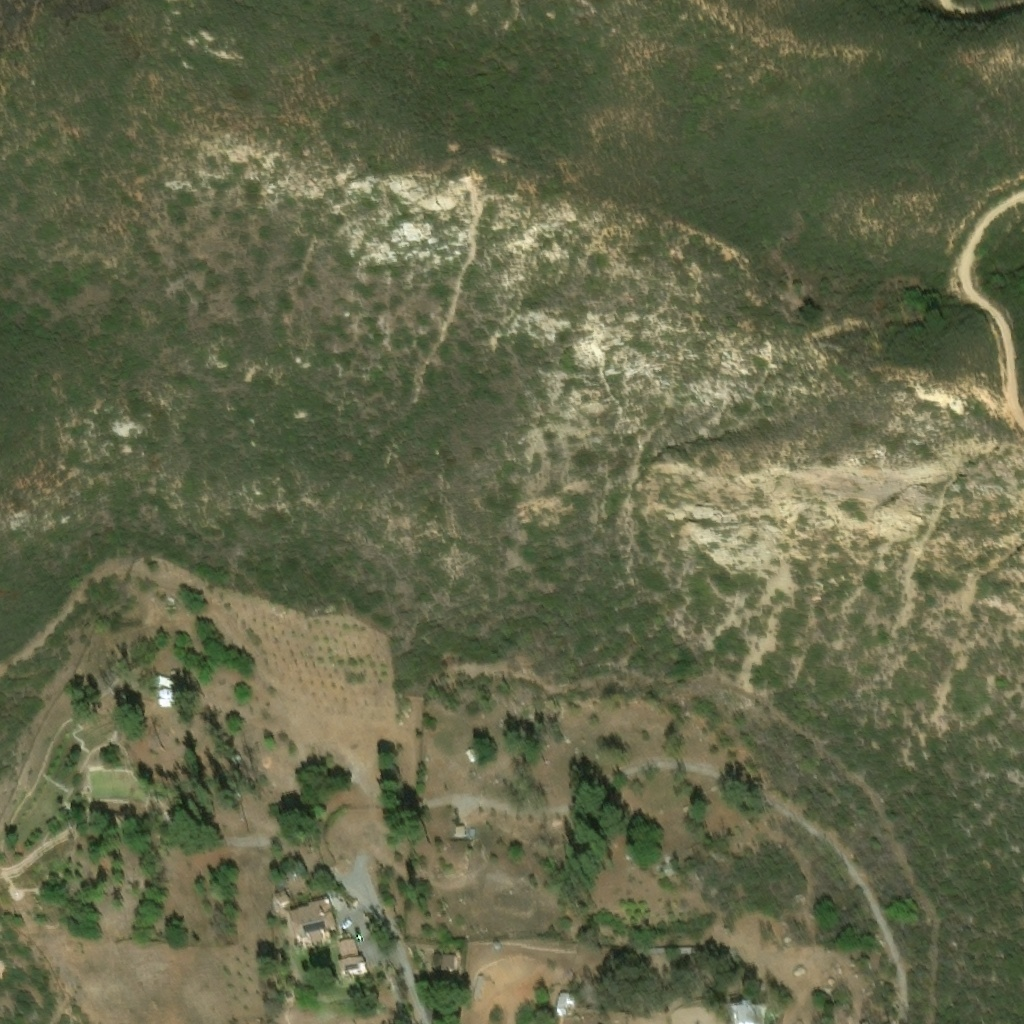0 no-damage: (288, 897, 343, 954), (332, 905, 368, 939), (730, 999, 765, 1023), (340, 959, 370, 985), (554, 989, 576, 1016), (338, 939, 361, 963), (354, 933, 375, 958), (440, 946, 461, 970), (470, 973, 485, 998), (157, 686, 173, 705), (637, 943, 664, 952), (676, 942, 697, 953), (463, 742, 477, 758), (156, 671, 172, 685), (353, 930, 370, 939), (453, 820, 464, 828)
4 un-classified: (336, 993, 346, 1004), (693, 1006, 702, 1012)
